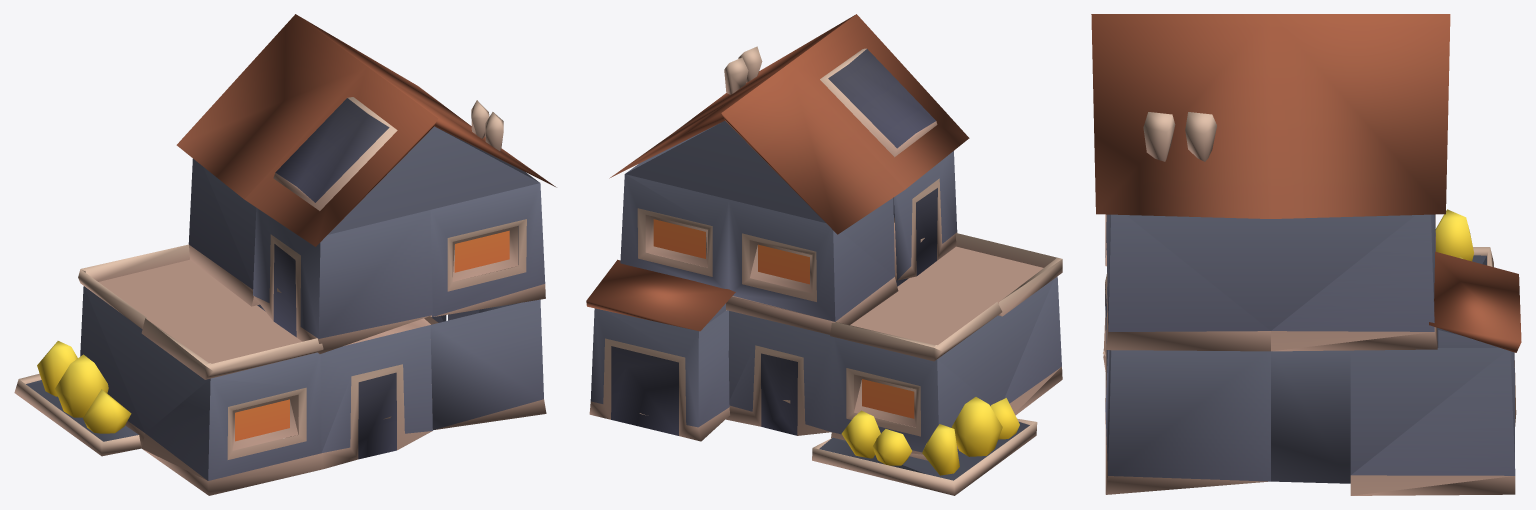
Rendered from casa_u.fbx.
3 views of the same model, side by side, from view 1: azimuth 30°, elevation 25°; view 2: azimuth 150°, elevation 25°; view 3: azimuth 270°, elevation 25° (orthographic). The views are drawn at different scales.
Parts seen in each view (by area): view 1: casa_u; view 2: casa_u; view 3: casa_u.
Part boxes in pixels (box(x1,y1,x2,y2)): casa_u: box(14, 14, 556, 495); casa_u: box(586, 14, 1062, 495); casa_u: box(1091, 14, 1521, 495).
Size of the model in its own units: 1.41 by 1.14 by 1.08.
